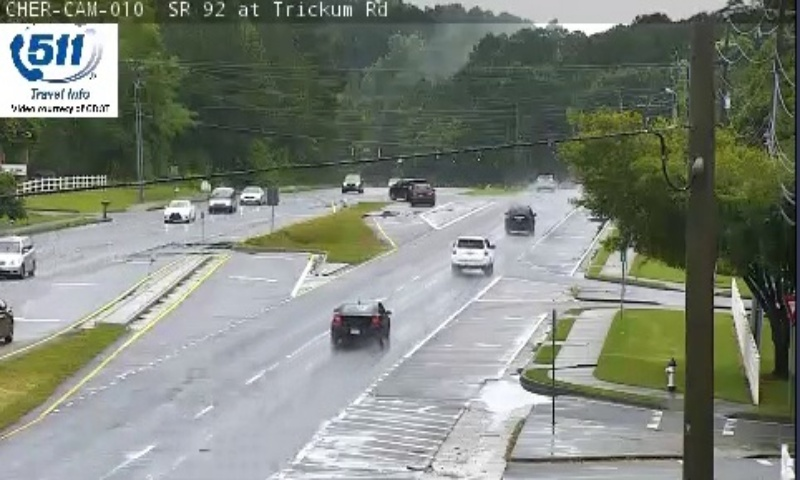car: (330, 301, 390, 342), (451, 234, 492, 268), (504, 205, 534, 232)
